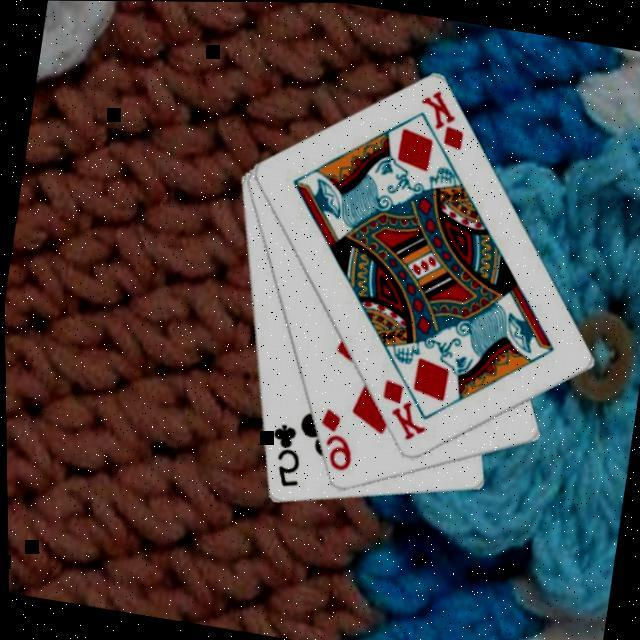5C: (260, 422, 310, 494)
9D: (308, 406, 362, 478)
KD: (372, 377, 436, 448), (412, 86, 474, 155)
